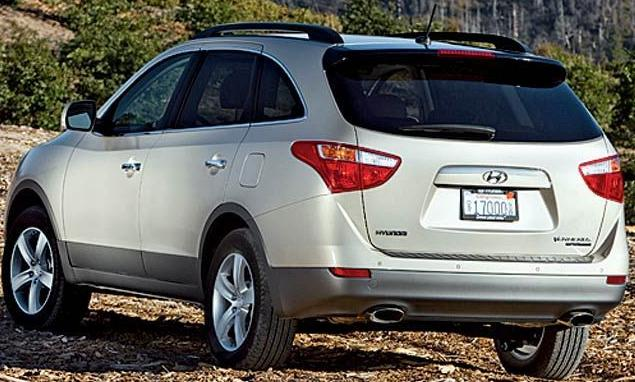back_view: (292, 125, 633, 333)
backlight: (285, 132, 405, 202)
side_glass: (94, 51, 310, 137)
